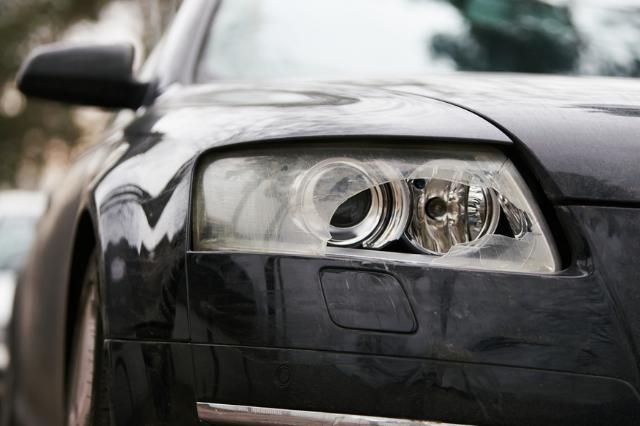Light: (208, 148, 557, 269)
